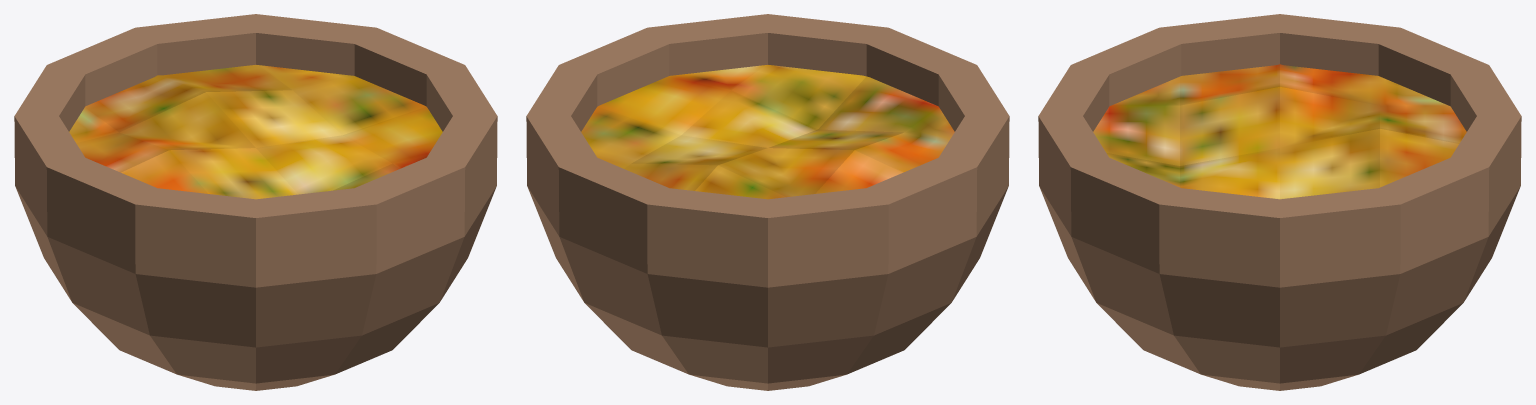
File: soup.obj
3 renders of one model, left to right at view 1: azimuth 30°, elevation 25°; view 2: azimuth 150°, elevation 25°; view 3: azimuth 270°, elevation 25°, orthographic.
Parts seen in each view (by area): view 1: Sphere_Mesh; view 2: Sphere_Mesh; view 3: Sphere_Mesh.
Part boxes in pixels (x1,y1,x2,y2): Sphere_Mesh: (14,14,497,390); Sphere_Mesh: (526,14,1009,390); Sphere_Mesh: (1038,14,1521,390).
Size of the model in its own units: 0.2353 by 0.1302 by 0.2353.
